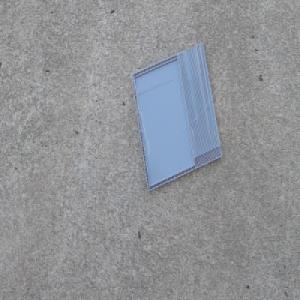PlasticPart: (130, 42, 223, 193)
